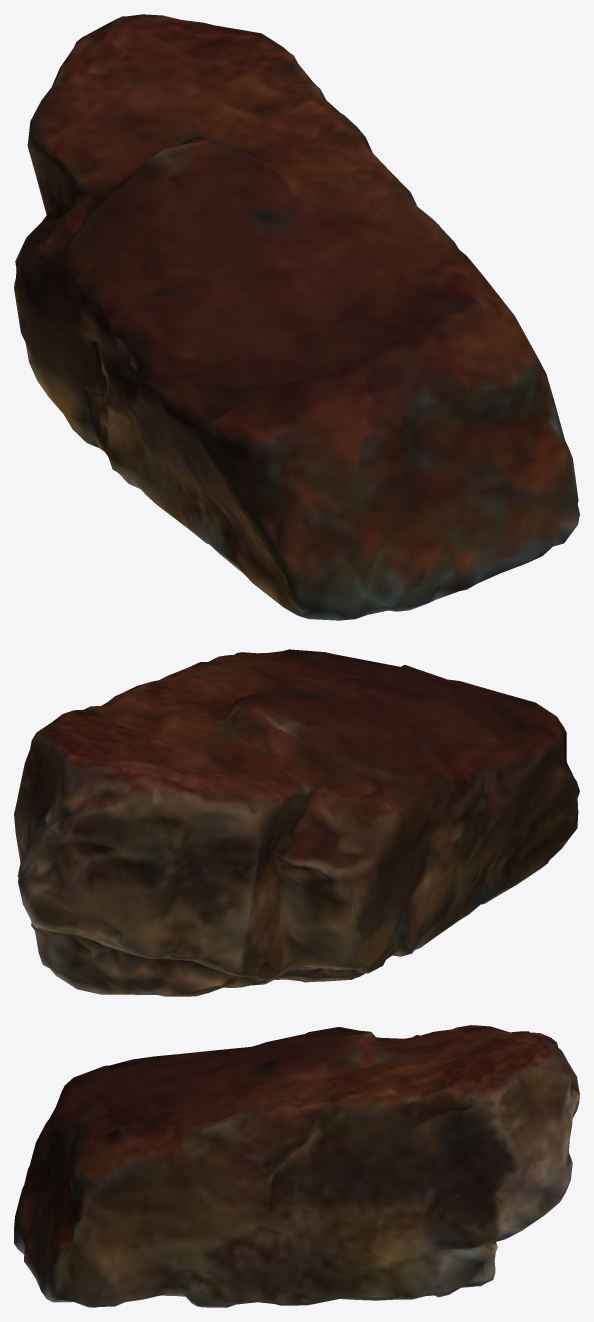
Rendered from rock-07.8e259fc8.glb.
3 renders of one model, top to bottom at view 1: azimuth 30°, elevation 25°; view 2: azimuth 150°, elevation 25°; view 3: azimuth 270°, elevation 25°, orthographic. The views are drawn at different scales.
Visible parts, largest first — view 1: model; view 2: model; view 3: model.
Boxes of the visible parts, x1=… form: model: x1=14, y1=14, x2=579, y2=620; model: x1=14, y1=649, x2=579, y2=996; model: x1=14, y1=1025, x2=579, y2=1307.
Bounding box in the file's own units: 0.1686 × 0.1437 × 0.3199.
Materials: 1 (1 with a texture image).
